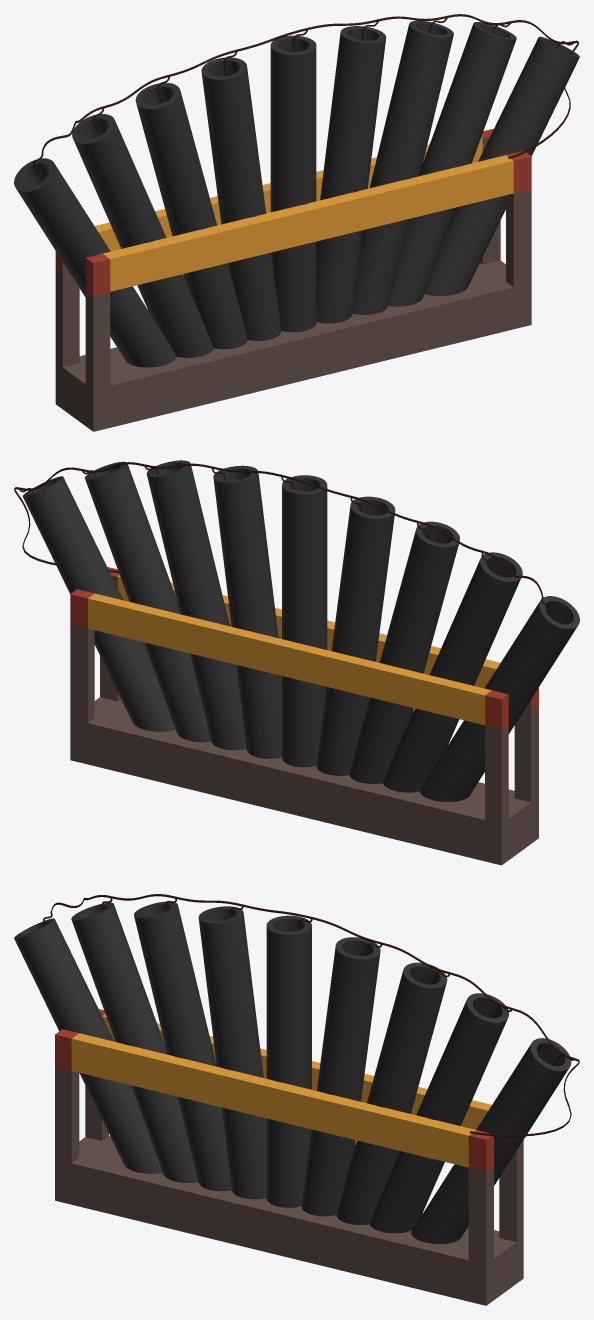
The model's file is Classic9Rack.fbx.
3 views of the same model, one above another, from view 1: azimuth 30°, elevation 25°; view 2: azimuth 150°, elevation 25°; view 3: azimuth 330°, elevation 25° (orthographic).
Visible parts, largest first — view 1: Cube, Cylinder.008, Cylinder.001, Cylinder.003, Cylinder.002, Cylinder.005, Cylinder.004, Cylinder.006, Cylinder, Cylinder.007, BezierCurve.009; view 2: Cube, Cylinder.001, Cylinder.008, Cylinder.003, Cylinder.002, Cylinder.005, Cylinder.004, Cylinder.006, Cylinder, Cylinder.007, BezierCurve.009; view 3: Cube, Cylinder.008, Cylinder.002, Cylinder.004, Cylinder.001, Cylinder, Cylinder.003, Cylinder.005, Cylinder.007, Cylinder.006, BezierCurve.009.
Boxes of the visible parts, x1,y1,x2,y2 form: Cube: [55, 128, 531, 431]; Cylinder.008: [270, 35, 316, 332]; Cylinder.001: [316, 26, 386, 323]; Cylinder.003: [352, 20, 453, 314]; Cylinder.002: [201, 57, 281, 340]; Cylinder.005: [388, 22, 516, 306]; Cylinder.004: [135, 82, 247, 349]; Cylinder.006: [424, 36, 579, 296]; Cylinder: [72, 114, 213, 357]; Cylinder.007: [14, 158, 176, 367]; BezierCurve.009: [42, 14, 578, 158]; Cube: [70, 567, 538, 865]; Cylinder.001: [213, 465, 281, 758]; Cylinder.008: [282, 475, 327, 767]; Cylinder.003: [146, 460, 246, 750]; Cylinder.002: [316, 496, 395, 775]; Cylinder.005: [85, 461, 210, 742]; Cylinder.004: [349, 521, 459, 783]; Cylinder.006: [22, 476, 175, 731]; Cylinder: [383, 552, 522, 792]; Cylinder.007: [420, 596, 579, 801]; BezierCurve.009: [14, 462, 543, 597]; Cube: [55, 1009, 523, 1305]; Cylinder.008: [266, 915, 311, 1207]; Cylinder.002: [198, 906, 266, 1199]; Cylinder.004: [134, 901, 231, 1191]; Cylinder.001: [302, 937, 380, 1216]; Cylinder: [71, 902, 197, 1182]; Cylinder.003: [336, 962, 447, 1224]; Cylinder.005: [369, 993, 509, 1233]; Cylinder.007: [14, 918, 162, 1173]; Cylinder.006: [411, 1038, 571, 1244]; BezierCurve.009: [50, 894, 579, 1136].
Bounding box in the file's own units: 426 × 236 × 49.47.
